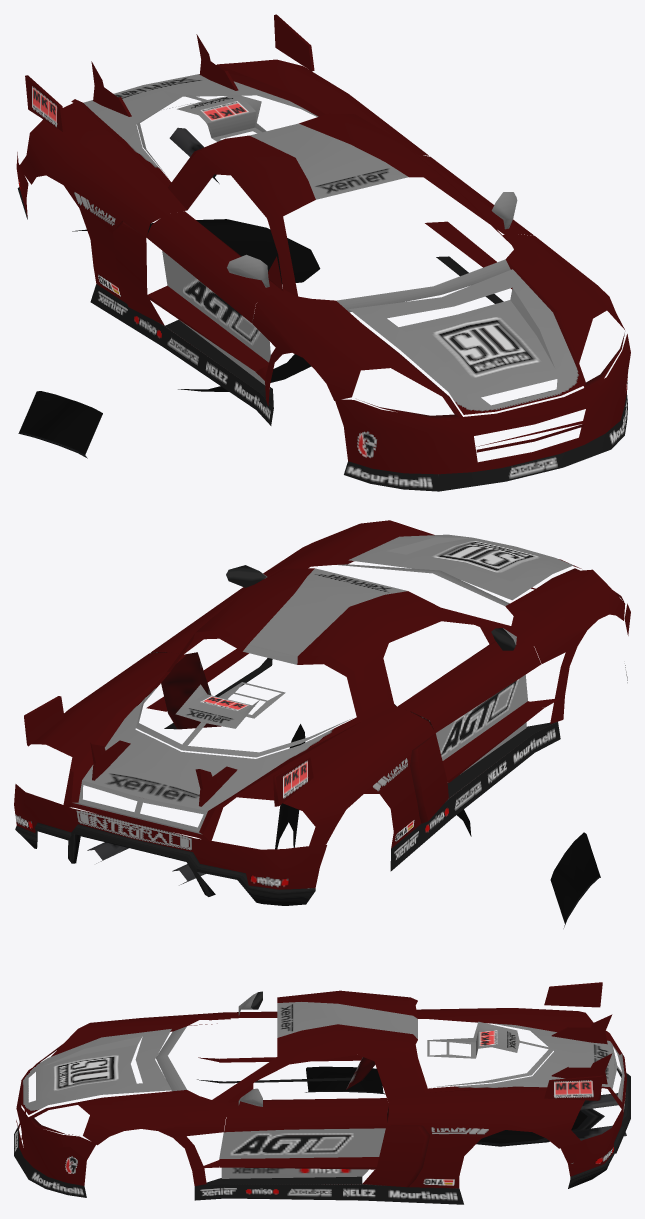
Rendered from car-SUPR_Car7.glb.
3 renders of one model, top to bottom at view 1: azimuth 30°, elevation 25°; view 2: azimuth 150°, elevation 25°; view 3: azimuth 270°, elevation 25°, orthographic. The views are drawn at different scales.
Visible parts, largest first — view 1: SUPR_Car7; view 2: SUPR_Car7; view 3: SUPR_Car7.
Boxes of the visible parts, box(x1,y1,x2,y2) form: SUPR_Car7: box(16, 14, 630, 491); SUPR_Car7: box(14, 520, 630, 928); SUPR_Car7: box(14, 982, 630, 1204).
Bounding box in the file's own units: 2.88 × 1.53 × 4.65.
Materials: 10 (10 with a texture image).
